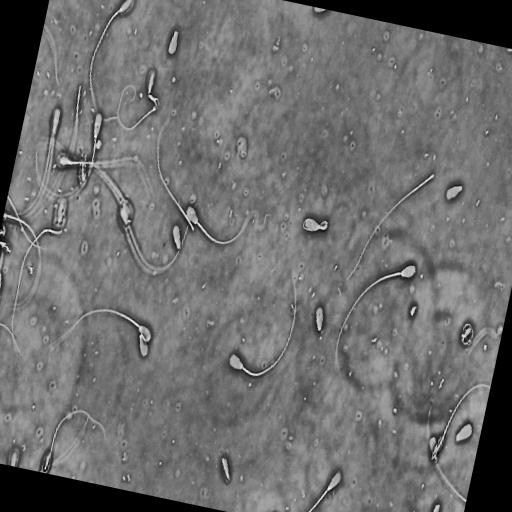coiled-tail: (302, 218, 317, 231), (316, 220, 327, 230)
folded-tail: (431, 384, 490, 459), (116, 84, 160, 133)
loose-head: (454, 420, 473, 444), (136, 330, 150, 361), (444, 182, 464, 203), (313, 302, 325, 334), (166, 27, 179, 56), (171, 221, 183, 252), (220, 456, 231, 483), (432, 502, 442, 512)
loose-tail: (343, 167, 437, 284), (10, 224, 64, 353), (155, 105, 196, 233), (425, 405, 466, 505)
normal: (331, 260, 419, 385), (226, 257, 299, 381), (83, 0, 140, 126), (35, 112, 103, 199), (120, 202, 196, 272), (430, 382, 490, 462), (51, 302, 152, 347), (41, 408, 105, 472), (184, 201, 250, 247), (116, 69, 160, 131), (304, 465, 344, 512), (298, 205, 337, 242)
